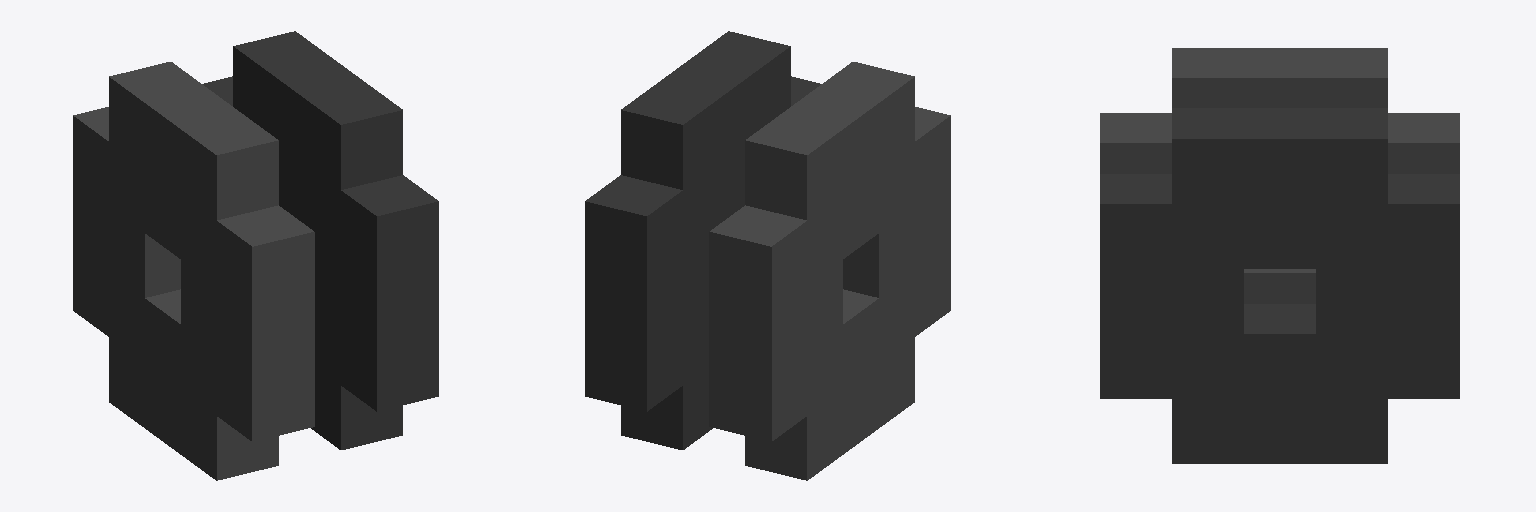
3 renders of one model, left to right at view 1: azimuth 30°, elevation 25°; view 2: azimuth 150°, elevation 25°; view 3: azimuth 270°, elevation 25°, orthographic.
Visible parts, largest first — view 1: gglive_baby_wheel; view 2: gglive_baby_wheel; view 3: gglive_baby_wheel.
Part boxes in pixels (bbox=[...]): gglive_baby_wheel: bbox=[73, 31, 438, 480]; gglive_baby_wheel: bbox=[585, 31, 950, 480]; gglive_baby_wheel: bbox=[1100, 48, 1459, 463].
Size of the model in its own units: 3 by 5 by 5.
Materials: 1 (1 with a texture image).